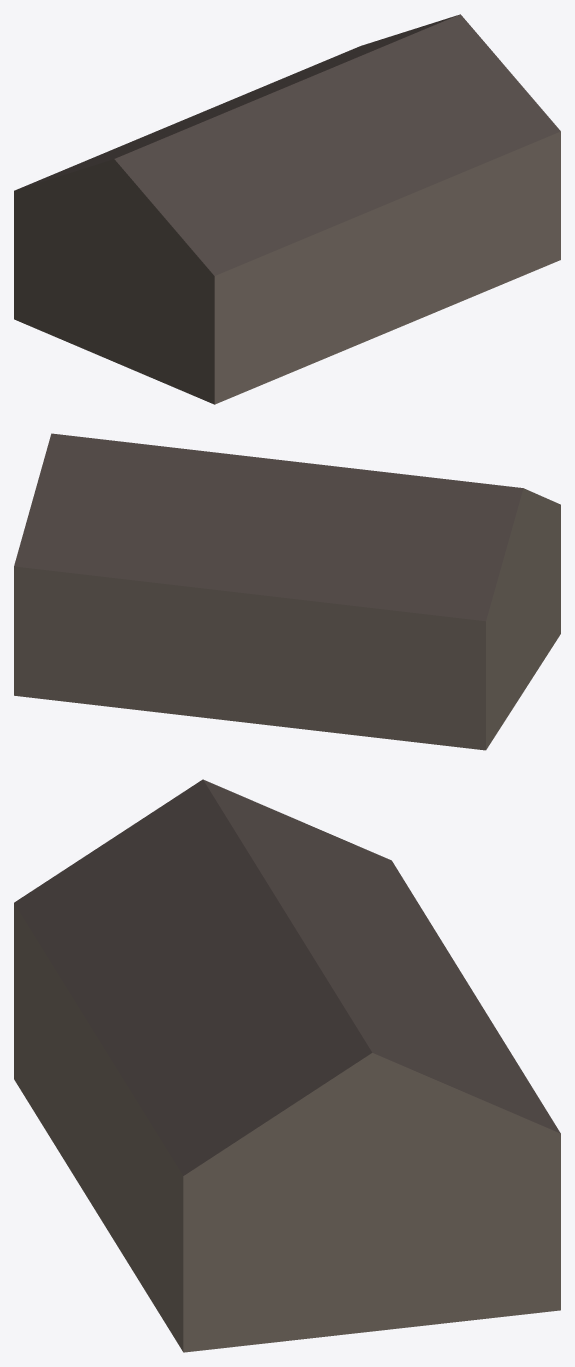
The picture shows the model from 3 angles, top to bottom: view 1: azimuth 30°, elevation 25°; view 2: azimuth 150°, elevation 25°; view 3: azimuth 270°, elevation 25°; orthographic projection. The views are drawn at different scales.
Visible parts, largest first — view 1: HP-w859467747; view 2: HP-w859467747; view 3: HP-w859467747.
Boxes of the visible parts, left/top/right/bottom form: HP-w859467747: left=14, top=14, right=560, bottom=404; HP-w859467747: left=14, top=433, right=560, bottom=750; HP-w859467747: left=14, top=779, right=560, bottom=1352.
Bounding box in the file's own units: 23.01 × 9.48 × 16.85.
